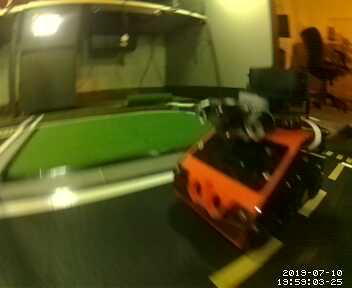pheeno: (171, 66, 328, 250)
